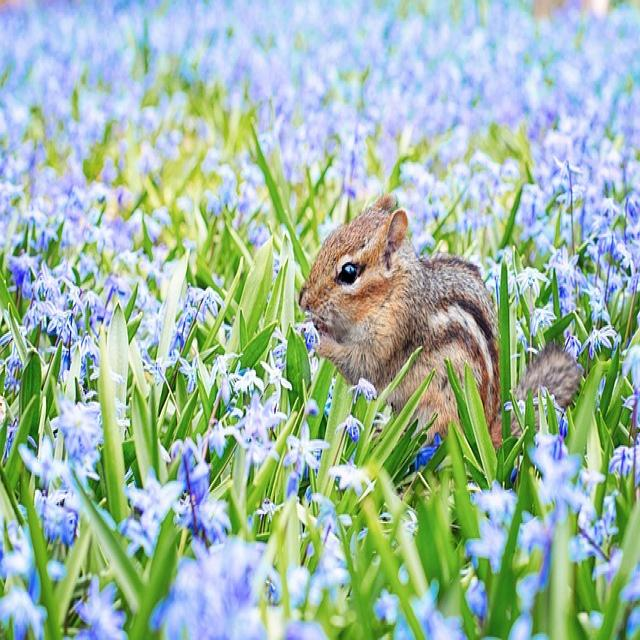Herbivorous: (299, 207, 502, 435)
